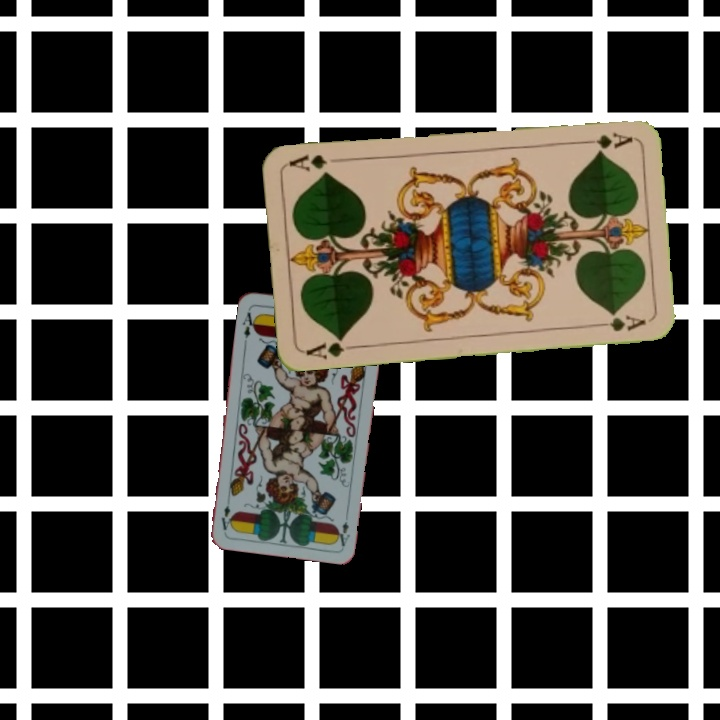EA: (238, 305, 259, 346), (332, 508, 352, 549)
GA: (302, 332, 361, 361), (575, 128, 635, 151)
